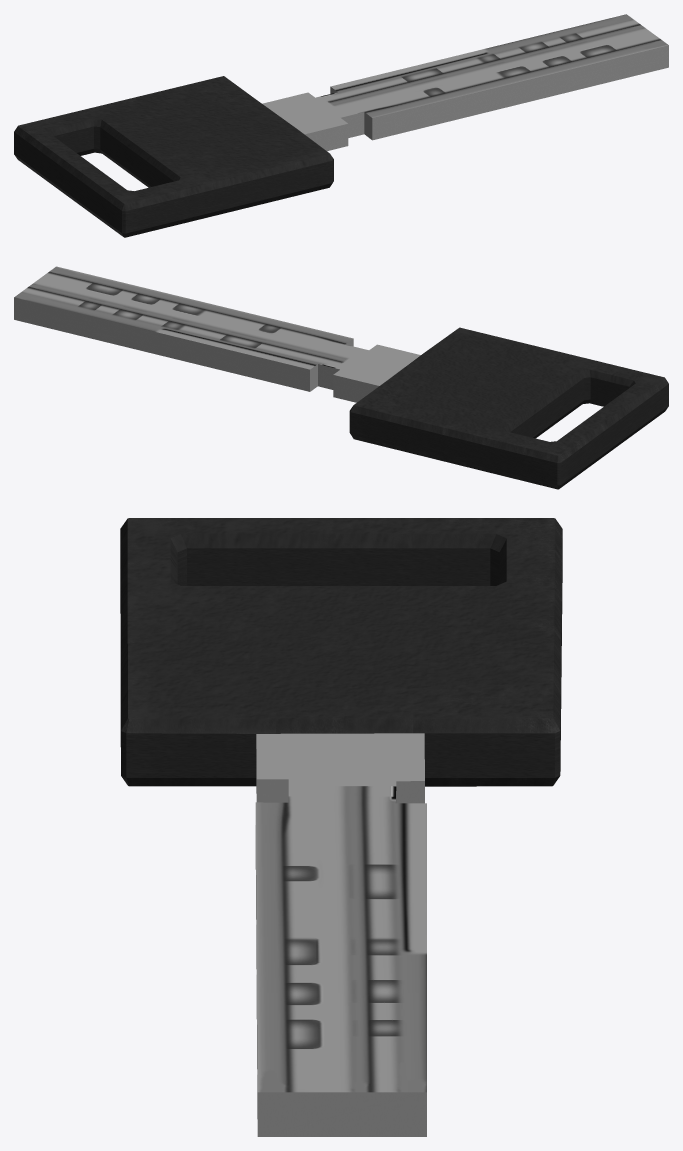
The model's file is key2.FBX.
The picture shows the model from 3 angles, top to bottom: view 1: azimuth 30°, elevation 25°; view 2: azimuth 150°, elevation 25°; view 3: azimuth 270°, elevation 25°; orthographic projection. The views are drawn at different scales.
Visible parts, largest first — view 1: mesh; view 2: mesh; view 3: mesh.
Boxes of the visible parts, <box> form: mesh: <box>14,14,668,237</box>; mesh: <box>14,266,668,489</box>; mesh: <box>120,518,562,1136</box>.
Size of the model in its own units: 95.43 by 5.31 by 31.52.
Materials: 2 (2 with a texture image).
